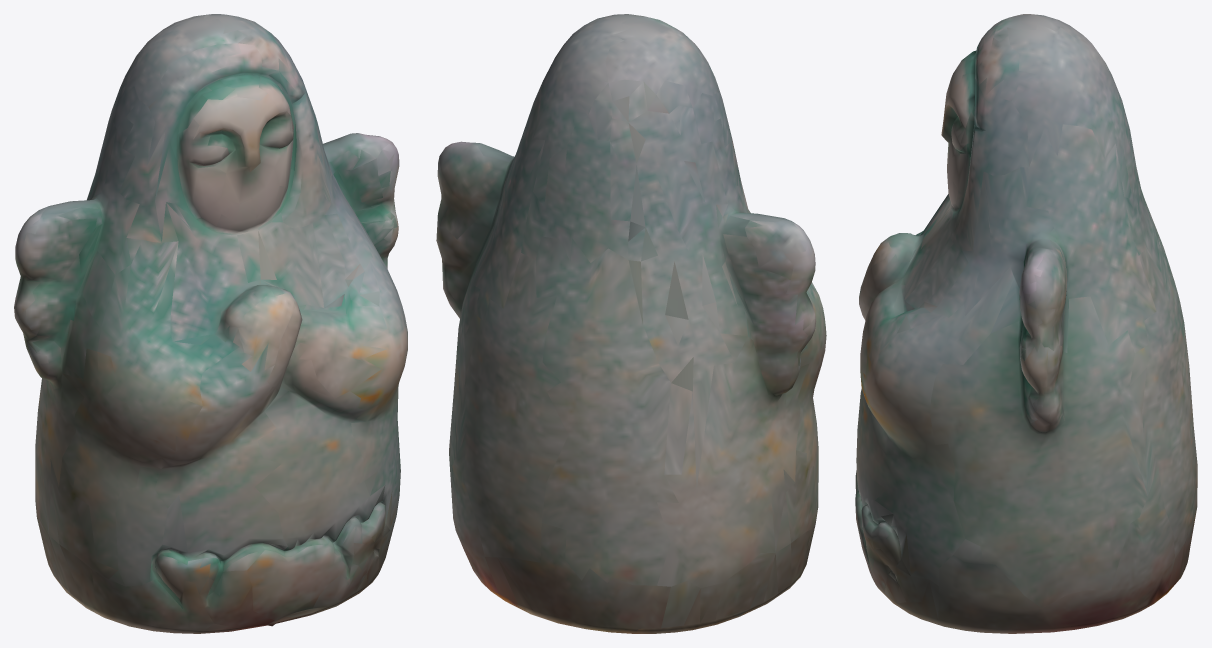
The model's file is 海鲁拉女神-Small.fbx.
3 views of the same model, side by side, from view 1: azimuth 30°, elevation 25°; view 2: azimuth 150°, elevation 25°; view 3: azimuth 270°, elevation 25° (orthographic).
Parts seen in each view (by area): view 1: texture_pbr_v128; view 2: texture_pbr_v128; view 3: texture_pbr_v128.
Boxes of the visible parts, box(x1,y1,x2,y2) form: texture_pbr_v128: box(14, 14, 407, 633); texture_pbr_v128: box(436, 14, 826, 633); texture_pbr_v128: box(855, 14, 1197, 633).
Size of the model in its own units: 76.48 by 105 by 60.12.
Materials: 1 (1 with a texture image).
